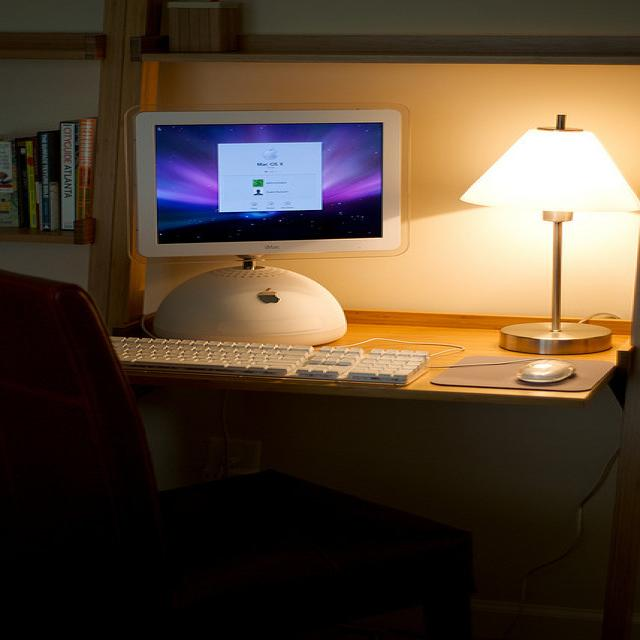Table: (66, 269, 640, 590)
chair: (0, 260, 499, 640)
